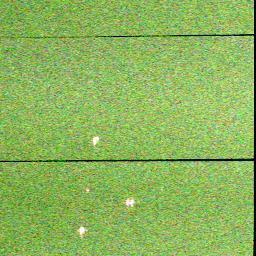Ship: (88, 134, 102, 147), (77, 224, 88, 237), (123, 196, 137, 206), (85, 185, 92, 196)
